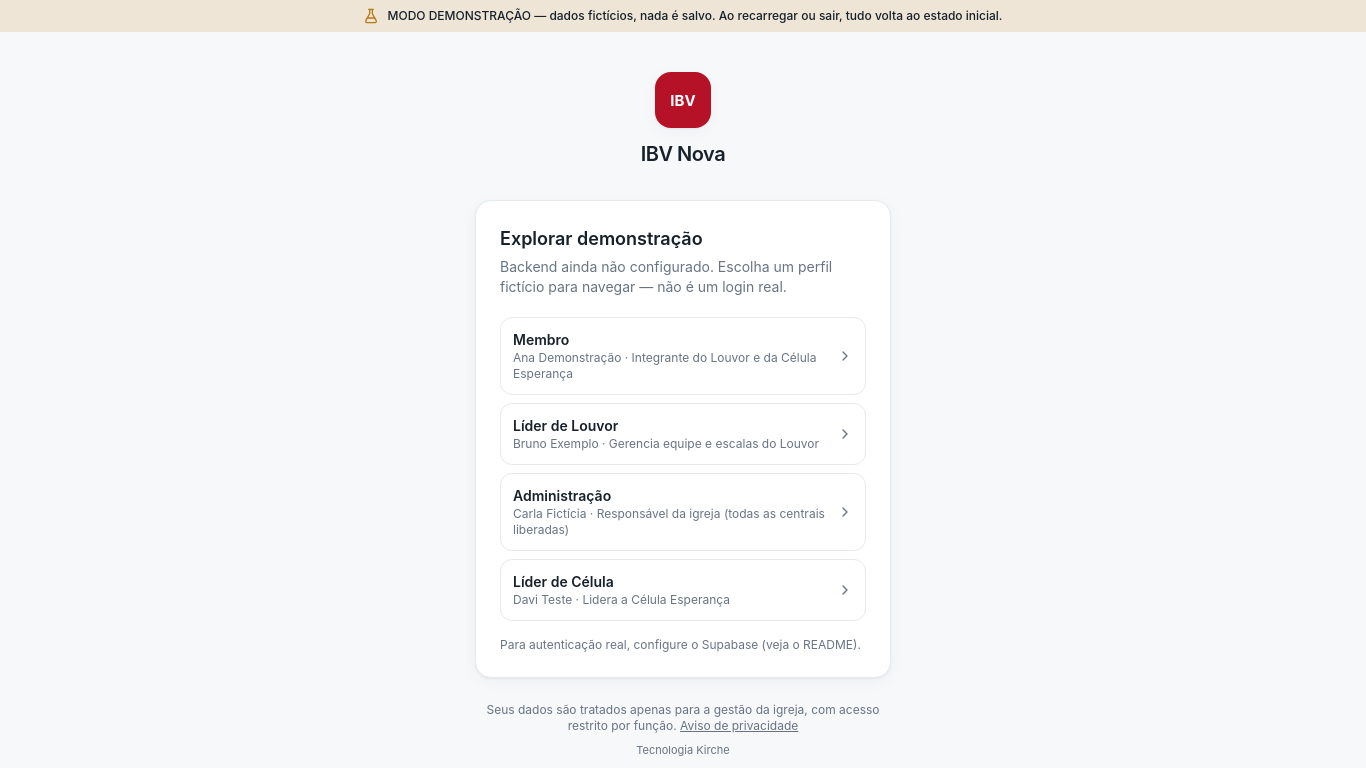
Test case: interface por perfil (modo demonstração) › líder vê a Central de Gestão apenas com centrais autorizadas
Step 1. Click the button "Líder de Louvor" → (683, 434), box [500,403,866,465]
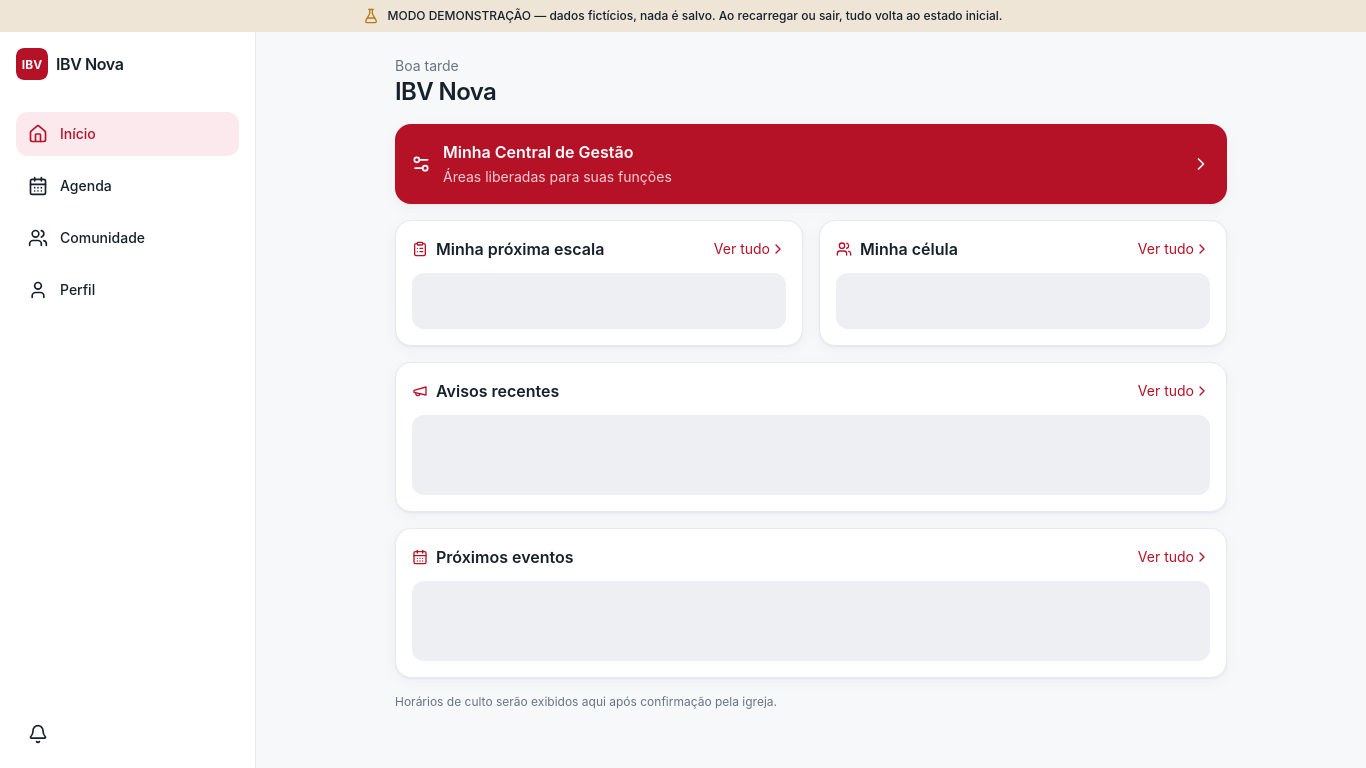
Step 2. Click the link "Minha Central de Gestão Áreas liberadas para suas funções" → (538, 152), box [395,124,1227,204]
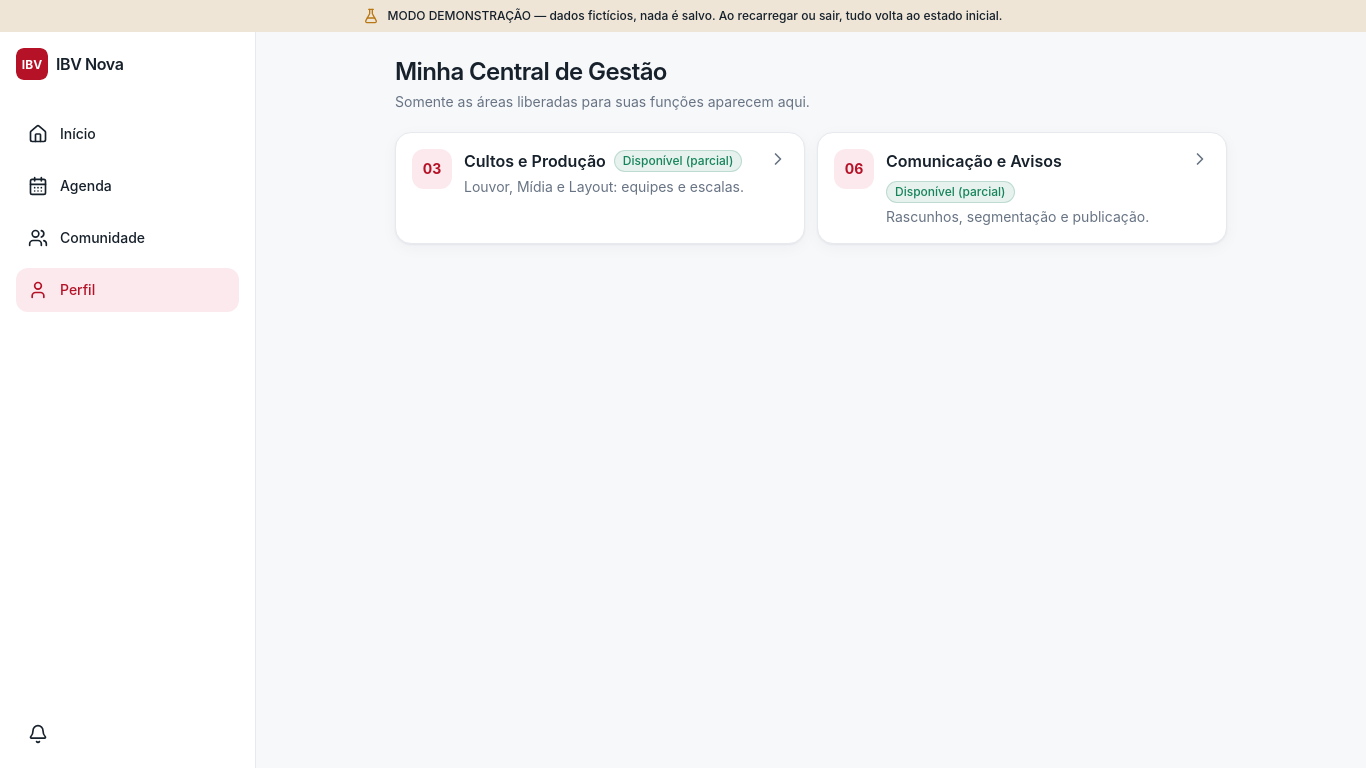
Expected: the text "Cultos e Produção" is shown, [464,151,606,171]
Expected: the text "Comunicação e Avisos" is shown, [886,151,1062,171]
